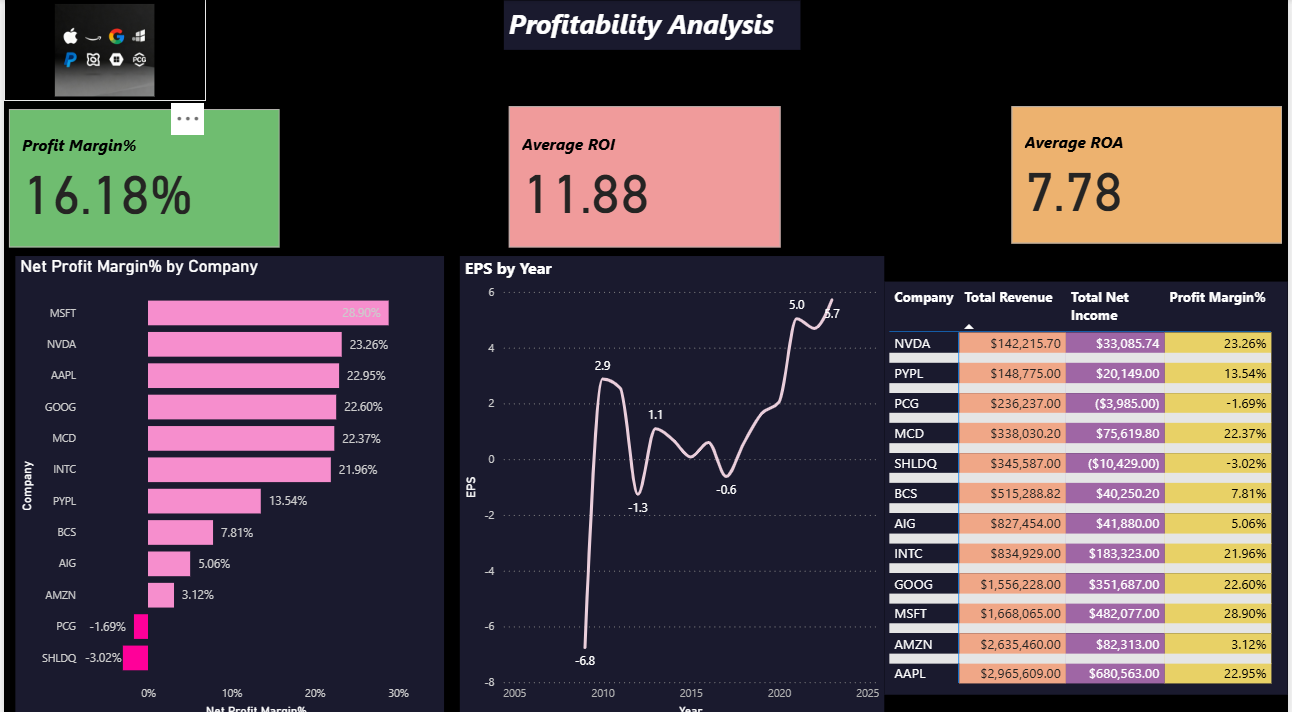

The page's visual inventory and layout, read from the dashboard file:
{"tool":"powerbi","page":{"name":"Profitability Analysis","canvas":[1280,720],"ordinal":1},"visuals":[{"type":"cardVisual","fields":{"Data":["Key_Measure.Profit Margin%"]},"box":[0,104.8,280.4,148.7],"z":0},{"type":"textbox","box":[498.4,1.4,295.9,49.6],"z":1000},{"type":"cardVisual","fields":{"Data":["Key_Measure.Average ROI"]},"box":[498.4,101.9,281.8,151.5],"z":2000},{"type":"cardVisual","fields":{"Data":["Key_Measure.Average ROA"]},"box":[999.6,101.9,280.4,147.3],"z":3000},{"type":"clusteredBarChart","fields":{"Category":["Dim_Company.Company "],"Y":["Key_Measure.Net Profit Margin%"]},"box":[11.3,256.3,427.6,464.4],"z":4000},{"type":"lineChart","fields":{"Y":["Key_Measure.EPS"],"Category":["Dim_Date.Year"]},"box":[454.5,256.3,423.4,464.4],"z":5000},{"type":"pivotTable","fields":{"Rows":["Dim_Company.Company "],"Values":["Key_Measure.Total Revenue","Key_Measure.Total Net Income","Key_Measure.Profit Margin%"]},"box":[877.9,281.8,402.1,412],"z":6000},{"type":"image","box":[0,0,201.1,101.9],"z":7000}]}

Visuals, with their boxes on the page's 1280x720 design canvas (x1, y1, x2, y2). These are canvas units, not pixel positions in the 1292x712 screenshot, which may show the page scaled, cropped or inside an application window:
cardVisual - Key_Measure.Profit Margin%: bbox(0, 105, 280, 254)
textbox: bbox(498, 1, 794, 51)
cardVisual - Key_Measure.Average ROI: bbox(498, 102, 780, 253)
cardVisual - Key_Measure.Average ROA: bbox(1000, 102, 1280, 249)
clusteredBarChart - Dim_Company.Company  x Key_Measure.Net Profit Margin%: bbox(11, 256, 439, 721)
lineChart - Key_Measure.EPS x Dim_Date.Year: bbox(454, 256, 878, 721)
pivotTable - Dim_Company.Company  x Key_Measure.Total Revenue: bbox(878, 282, 1280, 694)
image: bbox(0, 0, 201, 102)
